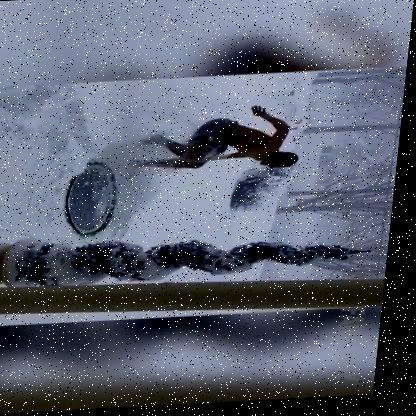streamer: (133, 106, 307, 176)
